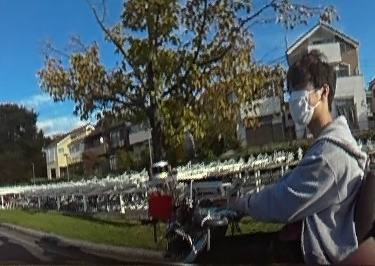person: (274, 52, 362, 266)
